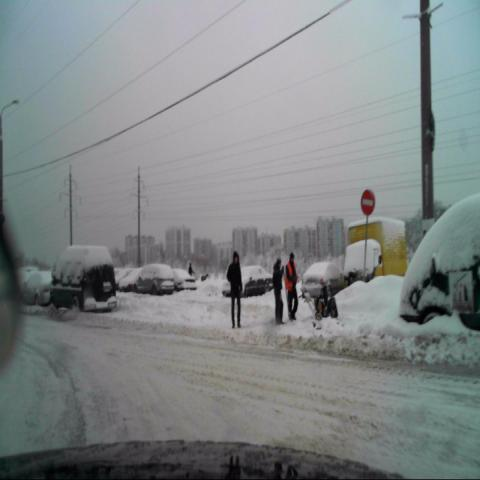3_1: (360, 185, 376, 218)
